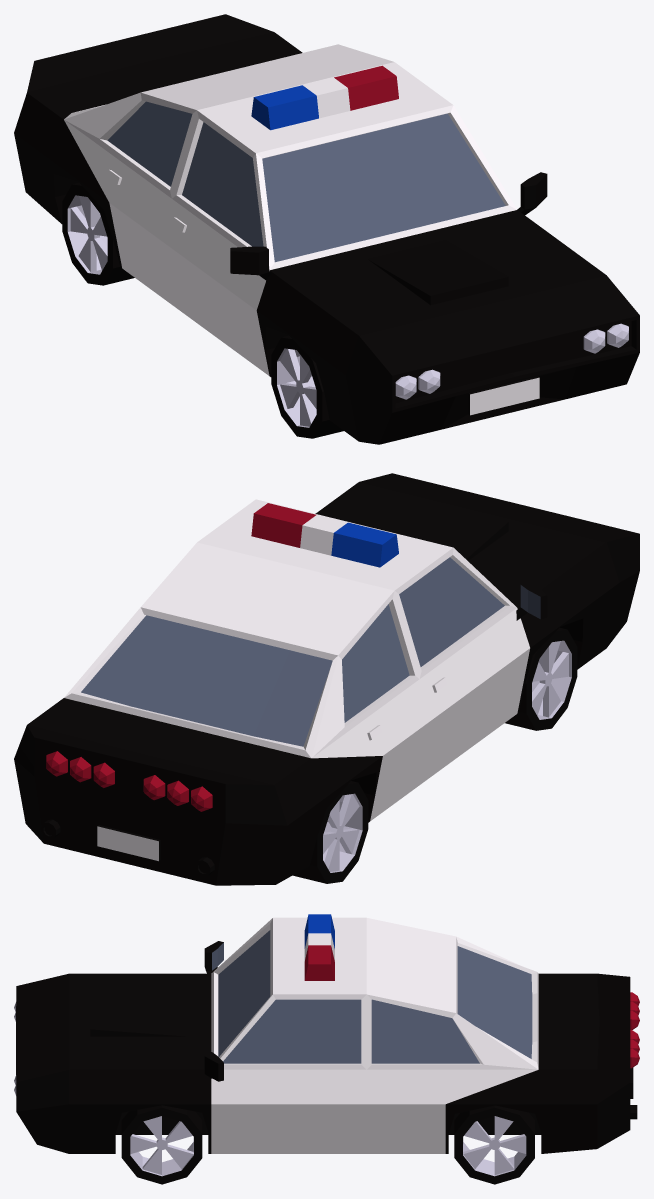
The model's file is Police Muscle.glb.
3 views of the same model, one above another, from view 1: azimuth 30°, elevation 25°; view 2: azimuth 150°, elevation 25°; view 3: azimuth 270°, elevation 25° (orthographic). The views are drawn at different scales.
Parts seen in each view (by area): view 1: Police Muscle, Police Muscle wheel front right, Police Muscle wheel rear right; view 2: Police Muscle, Police Muscle wheel front right, Police Muscle wheel rear right; view 3: Police Muscle, Police Muscle wheel front left, Police Muscle wheel rear left.
Boxes of the visible parts, x1,y1,x2,y2 form: Police Muscle: (14,14,639,444); Police Muscle wheel front right: (271,335,343,438); Police Muscle wheel rear right: (62,182,134,285); Police Muscle: (14,473,639,885); Police Muscle wheel front right: (505,628,577,730); Police Muscle wheel rear right: (293,781,368,883); Police Muscle: (14,914,639,1153); Police Muscle wheel front left: (121,1105,202,1184); Police Muscle wheel rear left: (454,1105,534,1184).
Bounding box in the file's own units: 281 × 209 × 606.
